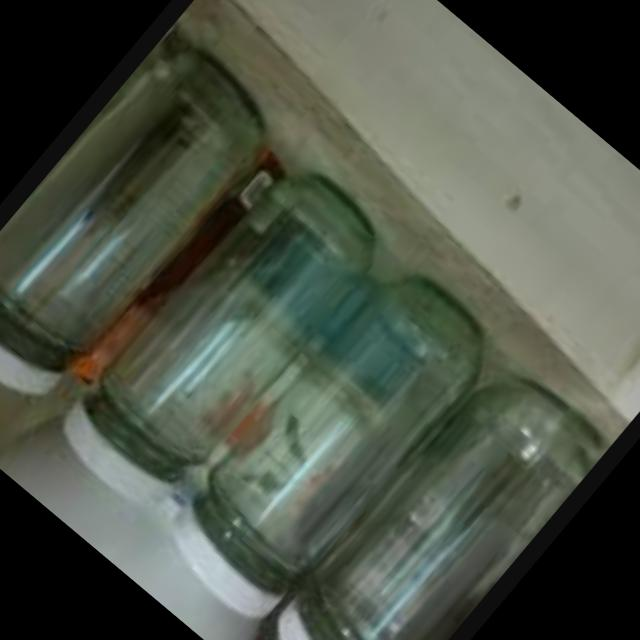ToplesKaca: (36, 142, 397, 533), (150, 262, 486, 630), (0, 16, 284, 430), (251, 356, 610, 640)
